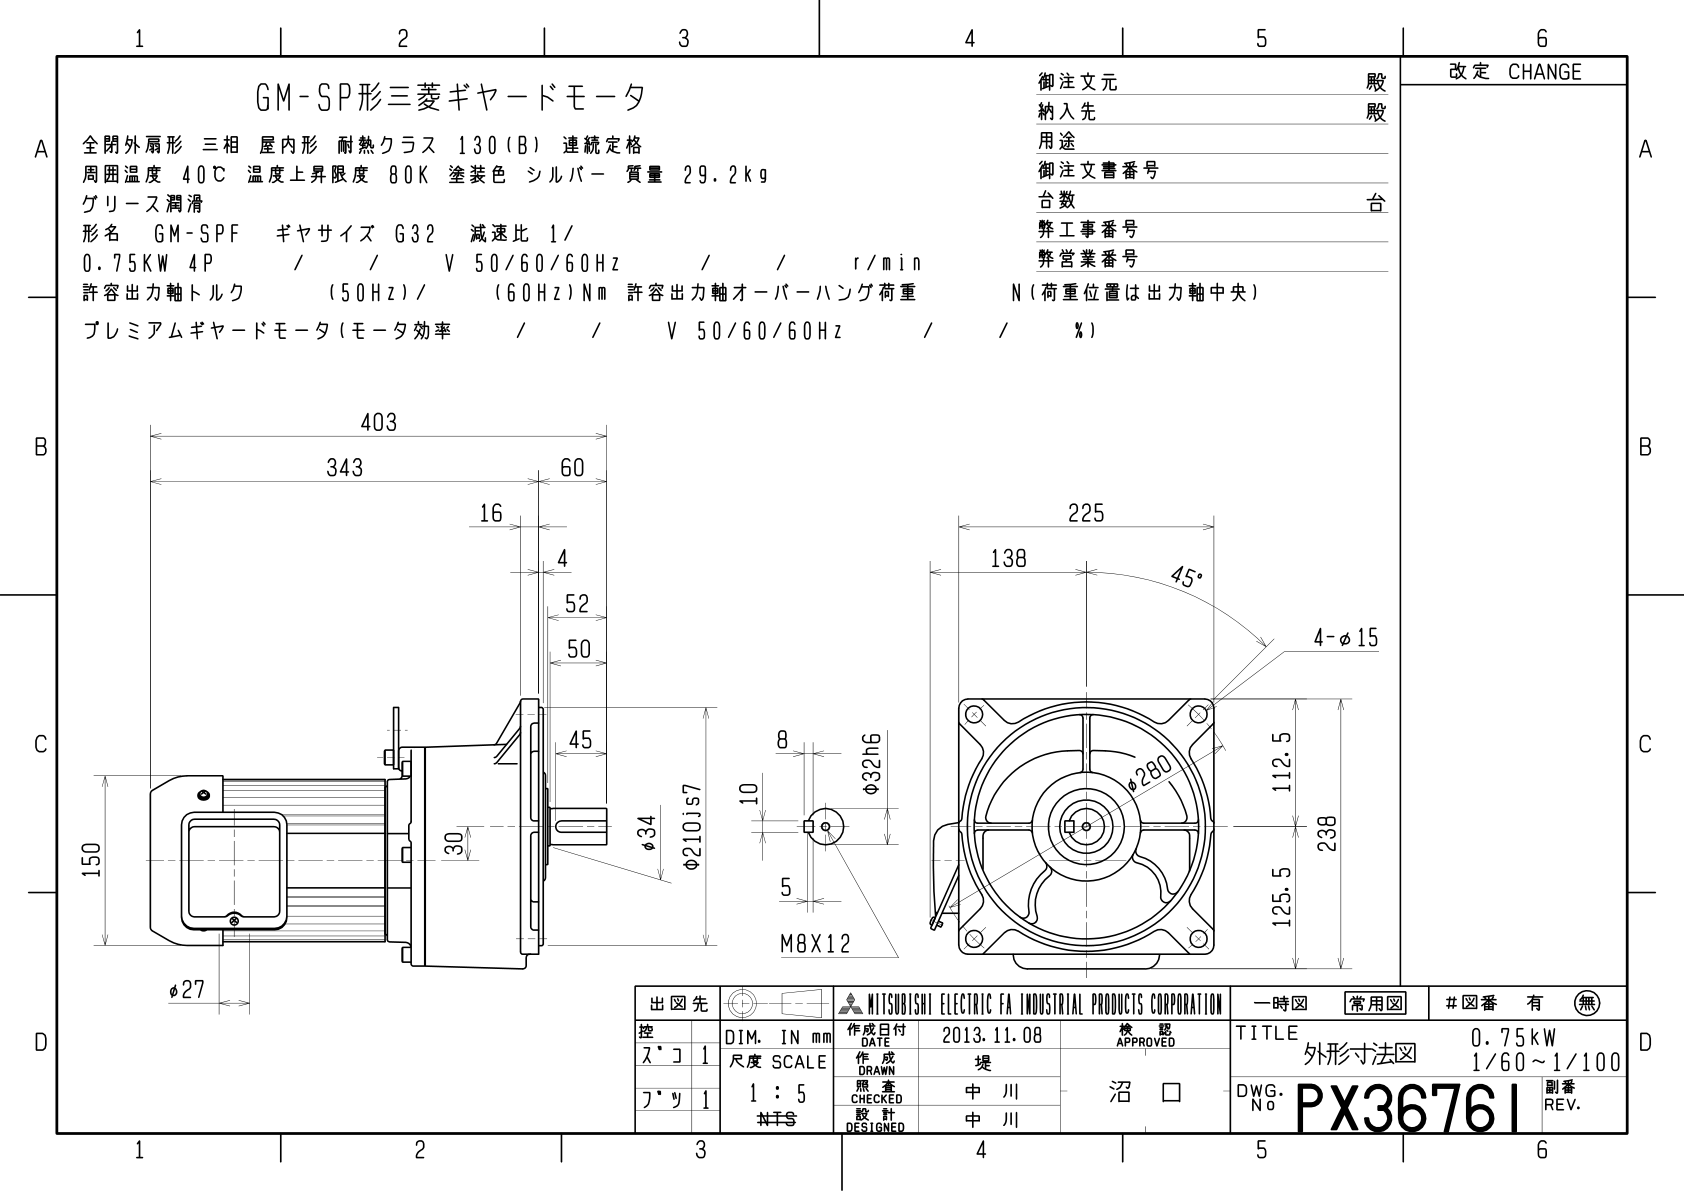GM_SP_屋内_三相_フランジ: (77, 391, 1381, 986)
